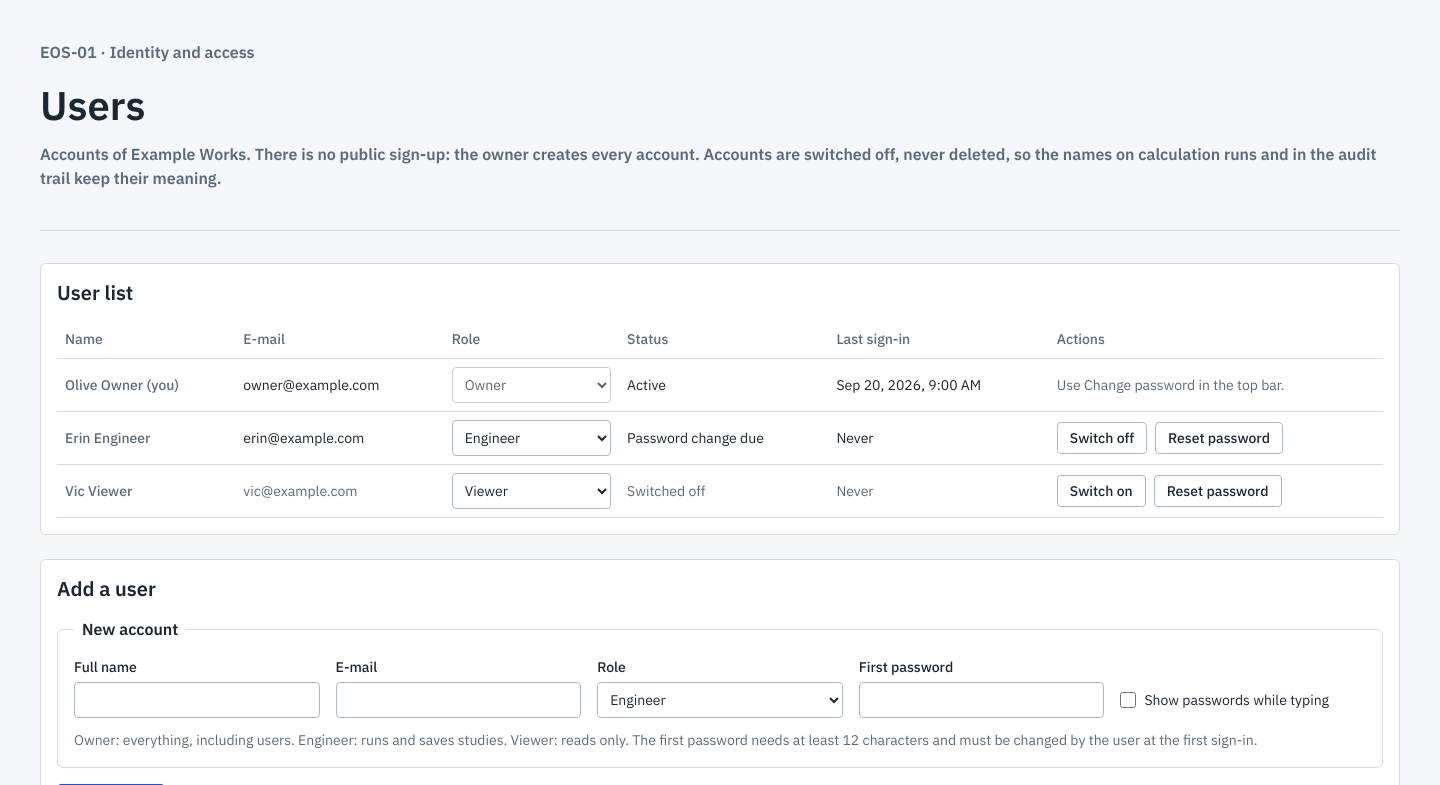
UsersPage › shows the server's refusal of a change
Step 1. Click the button "Switch off" → point(1102, 438), box [1057, 422, 1147, 454]
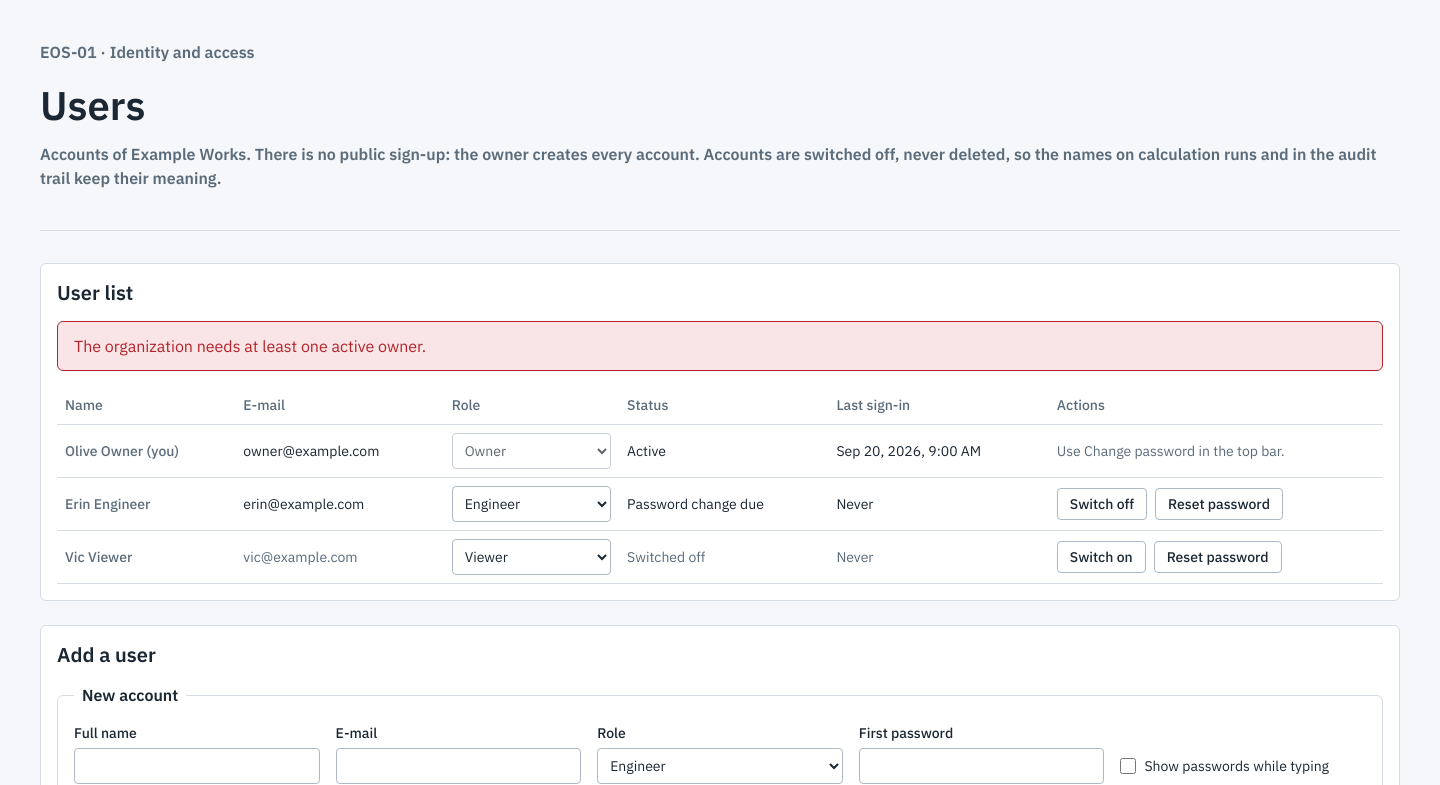
Expected: the message reads "The organization needs at least one active owner.", [74, 336, 426, 356]
